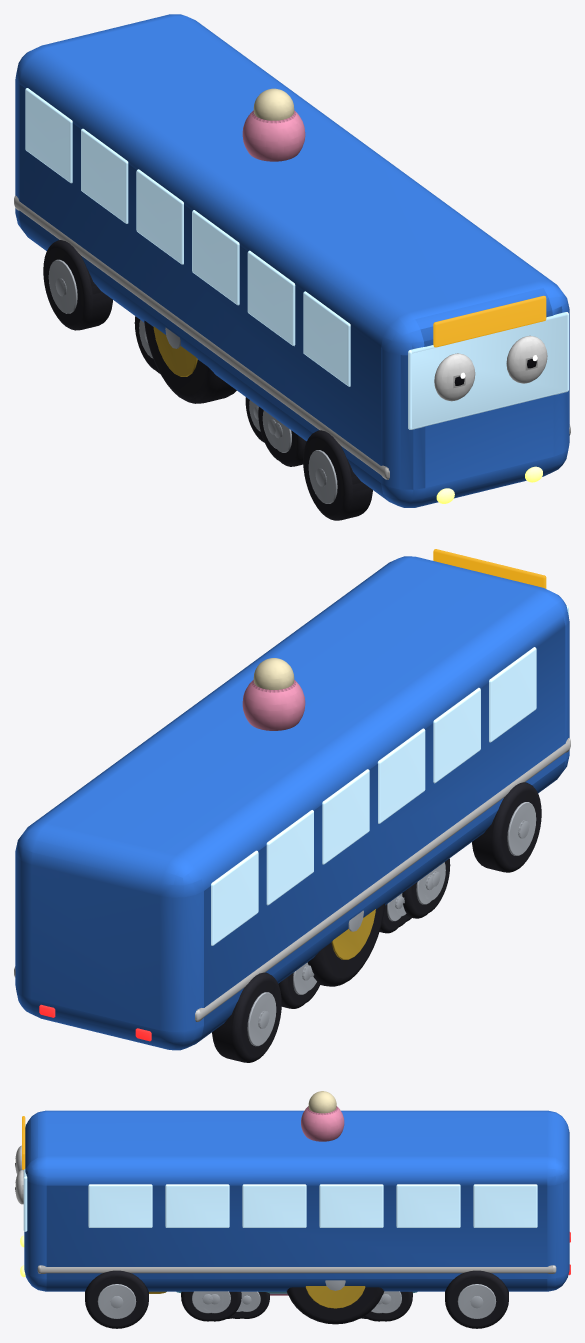
File: vehiculos.glb
3 views of the same model, one above another, from view 1: azimuth 30°, elevation 25°; view 2: azimuth 150°, elevation 25°; view 3: azimuth 270°, elevation 25° (orthographic). The views are drawn at different scales.
Parts seen in each view (by area): view 1: cuerpo.007, parabrisas.007, franja.003, vent.024, vent.023, vent.025, vent.021, vent.020, vent.022, cartel.001, ruedaRR_n.007, ruedaFR_n.007 (+8 smaller); view 2: cuerpo.007, franja.003, vent.021, vent.022, vent.023, vent.024, vent.025, vent.020, ruedaRR_n.007, ruedaFR_n.007, bola, ruedaRR_n.009 (+5 smaller); view 3: cuerpo.007, franja.003, vent.014, vent.015, vent.016, vent.017, vent.018, vent.019, ruedaRL_n.007, ruedaFL_n.007, ruedaRL_n.009, bola (+11 smaller).
Boxes of the visible parts, x1=… form: cuerpo.007: x1=15, y1=14, x2=569, y2=507; parabrisas.007: x1=408, y1=312, x2=568, y2=429; franja.003: x1=14, y1=195, x2=570, y2=479; vent.024: x1=247, y1=250, x2=295, y2=346; vent.023: x1=192, y1=210, x2=239, y2=305; vent.025: x1=303, y1=291, x2=350, y2=386; vent.021: x1=81, y1=128, x2=128, y2=223; vent.020: x1=25, y1=88, x2=72, y2=183; vent.022: x1=136, y1=169, x2=183, y2=264; cartel.001: x1=433, y1=295, x2=546, y2=347; ruedaRR_n.007: x1=43, y1=240, x2=112, y2=330; ruedaFR_n.007: x1=303, y1=430, x2=372, y2=520; cuerpo.007: x1=15, y1=556, x2=569, y2=1050; franja.003: x1=14, y1=738, x2=570, y2=1021; vent.021: x1=266, y1=810, x2=313, y2=905; vent.022: x1=322, y1=769, x2=369, y2=864; vent.023: x1=377, y1=728, x2=425, y2=823; vent.024: x1=433, y1=687, x2=480, y2=783; vent.025: x1=489, y1=647, x2=536, y2=742; vent.020: x1=211, y1=850, x2=258, y2=945; ruedaRR_n.007: x1=212, y1=972, x2=281, y2=1062; ruedaFR_n.007: x1=472, y1=782, x2=541, y2=872; bola: x1=242, y1=679, x2=305, y2=730; ruedaRR_n.009: x1=307, y1=903, x2=385, y2=986; cuerpo.007: x1=24, y1=1110, x2=569, y2=1291; franja.003: x1=37, y1=1265, x2=556, y2=1273; vent.014: x1=473, y1=1184, x2=537, y2=1227; vent.015: x1=396, y1=1184, x2=460, y2=1227; vent.016: x1=319, y1=1184, x2=383, y2=1227; vent.017: x1=242, y1=1184, x2=306, y2=1227; vent.018: x1=165, y1=1184, x2=229, y2=1227; vent.019: x1=88, y1=1184, x2=152, y2=1227; ruedaRL_n.007: x1=445, y1=1270, x2=508, y2=1328; ruedaFL_n.007: x1=85, y1=1270, x2=148, y2=1328; ruedaRL_n.009: x1=286, y1=1287, x2=384, y2=1324; bola: x1=301, y1=1106, x2=344, y2=1141.
Size of the model in its own units: 2.55 by 3.52 by 8.68.
